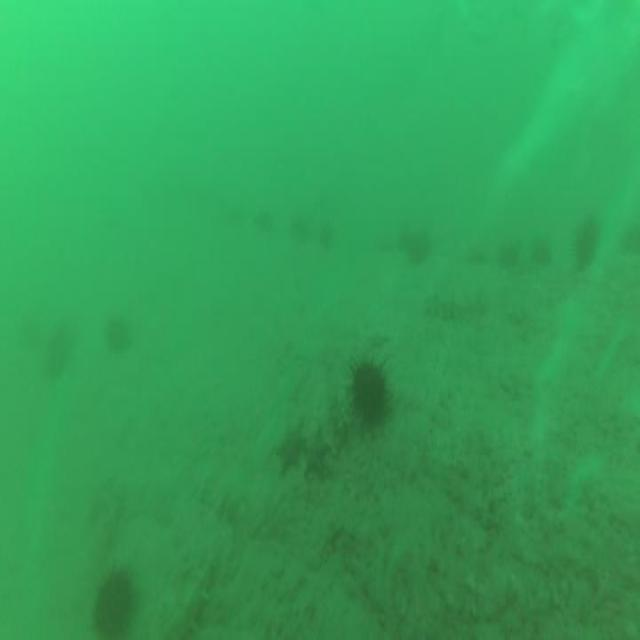echinus: (350, 361, 388, 428), (94, 575, 132, 640)
starfish: (303, 430, 331, 477), (276, 424, 302, 474)
